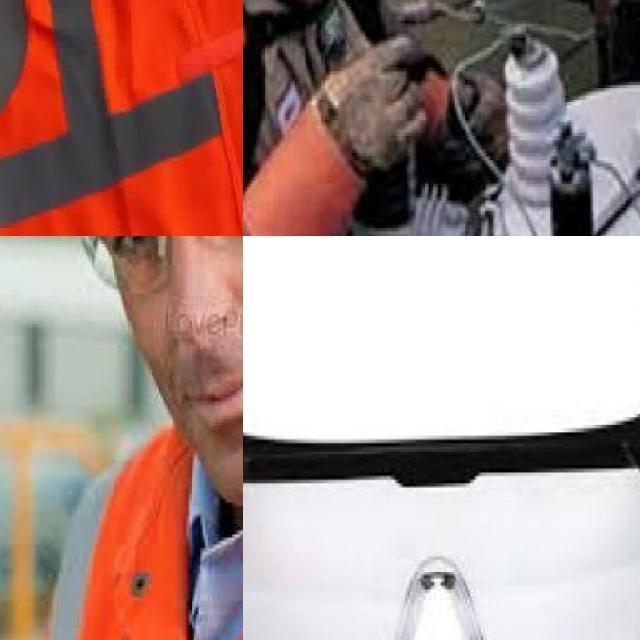apron: (258, 38, 424, 236)
